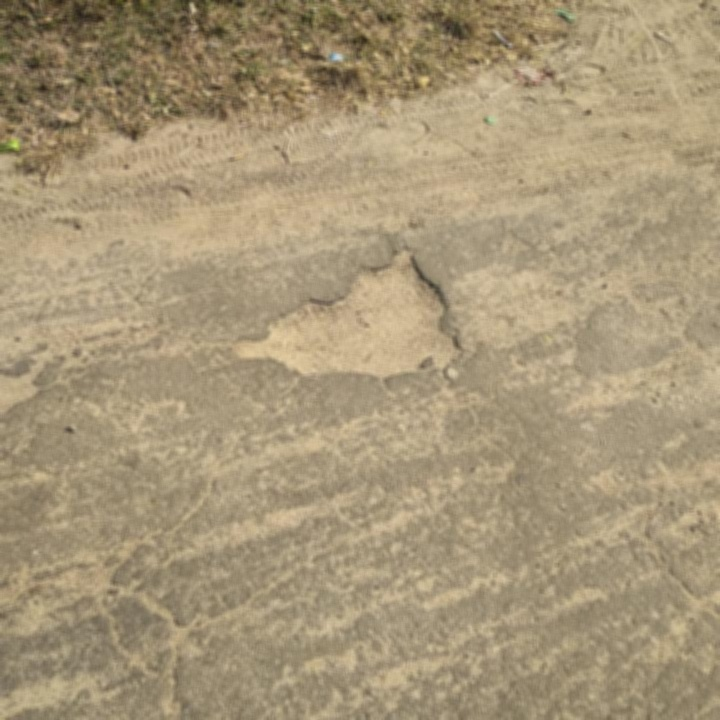pothole: (230, 240, 466, 384)
